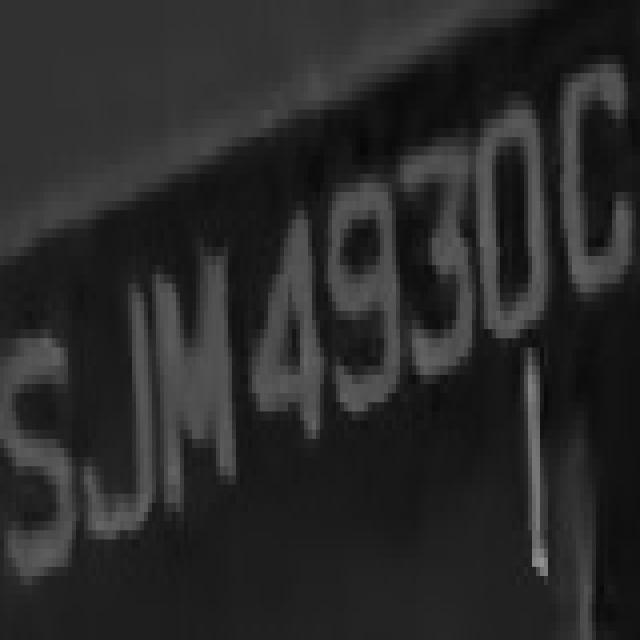0: (464, 82, 556, 366)
3: (396, 119, 468, 430)
4: (236, 192, 332, 494)
9: (316, 146, 412, 439)
C: (560, 46, 632, 347)
J: (84, 265, 164, 576)
M: (144, 247, 236, 512)
S: (0, 302, 80, 622)
